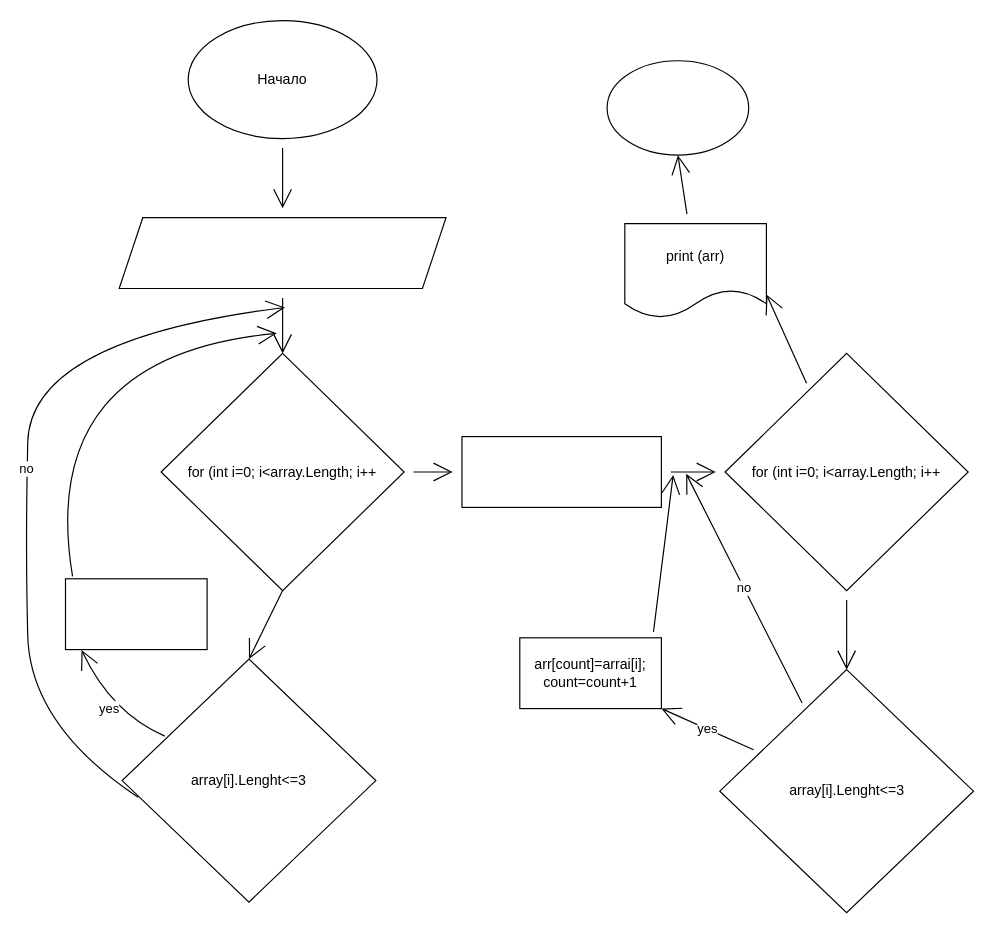
This 995x933 diagram has some shape labels left out. The centre of each missing label's shape, as x and y in pixels:
length=length+1: (x=135, y=614)
string arr[] =new string [length];: (x=561, y=471)
string array [] int count=0 int length =0: (x=282, y=253)
конец: (x=677, y=107)
